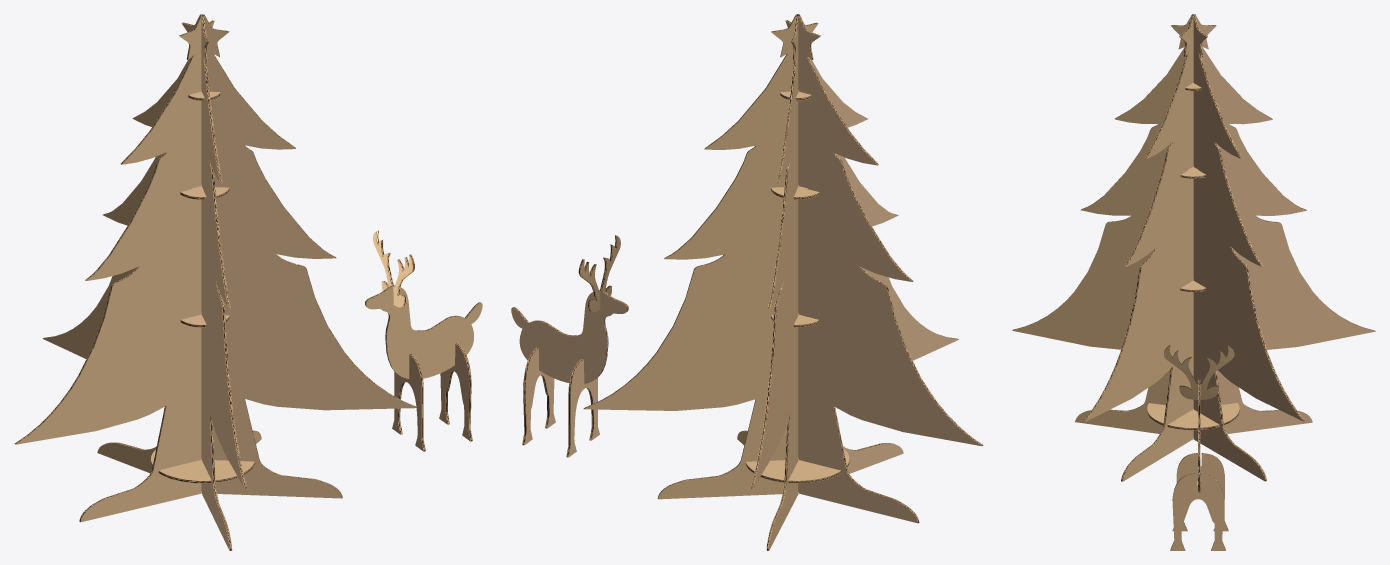
File: arbol y ciervo.gltf
3 renders of one model, left to right at view 1: azimuth 30°, elevation 25°; view 2: azimuth 150°, elevation 25°; view 3: azimuth 270°, elevation 25°, orthographic. The views are drawn at different scales.
Visible parts, largest first — view 1: Curve.035; view 2: Curve.035; view 3: Curve.035.
Boxes of the visible parts, x1=… form: Curve.035: x1=14, y1=14, x2=482, y2=550; Curve.035: x1=511, y1=14, x2=983, y2=550; Curve.035: x1=1012, y1=14, x2=1375, y2=550.
Bounding box in the file's own units: 1.4 × 1.36 × 1.06.
Materials: 3 (1 with a texture image).
